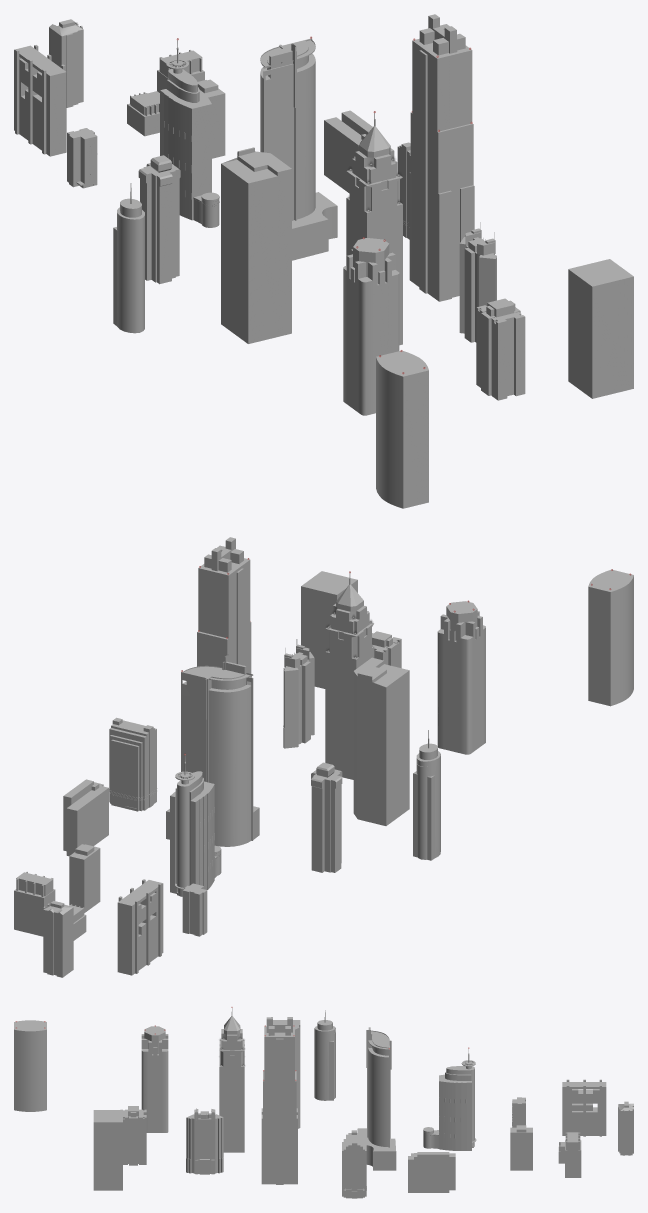
File: city_b.glb
The picture shows the model from 3 angles, top to bottom: view 1: azimuth 30°, elevation 25°; view 2: azimuth 150°, elevation 25°; view 3: azimuth 270°, elevation 25°; orthographic projection. The views are drawn at different scales.
Visible parts, largest first — view 1: BACKGROUND_BUILDINGS_1.001_BACKGROUND_BUILDINGS_1_0; view 2: BACKGROUND_BUILDINGS_1.001_BACKGROUND_BUILDINGS_1_0; view 3: BACKGROUND_BUILDINGS_1.001_BACKGROUND_BUILDINGS_1_0.
Part boxes in pixels (bbox=[...]): BACKGROUND_BUILDINGS_1.001_BACKGROUND_BUILDINGS_1_0: bbox=[14, 14, 633, 508]; BACKGROUND_BUILDINGS_1.001_BACKGROUND_BUILDINGS_1_0: bbox=[14, 537, 633, 977]; BACKGROUND_BUILDINGS_1.001_BACKGROUND_BUILDINGS_1_0: bbox=[14, 1007, 633, 1198].
Size of the model in its own units: 419 by 301 by 1049.
Materials: 4 (2 with a texture image).
